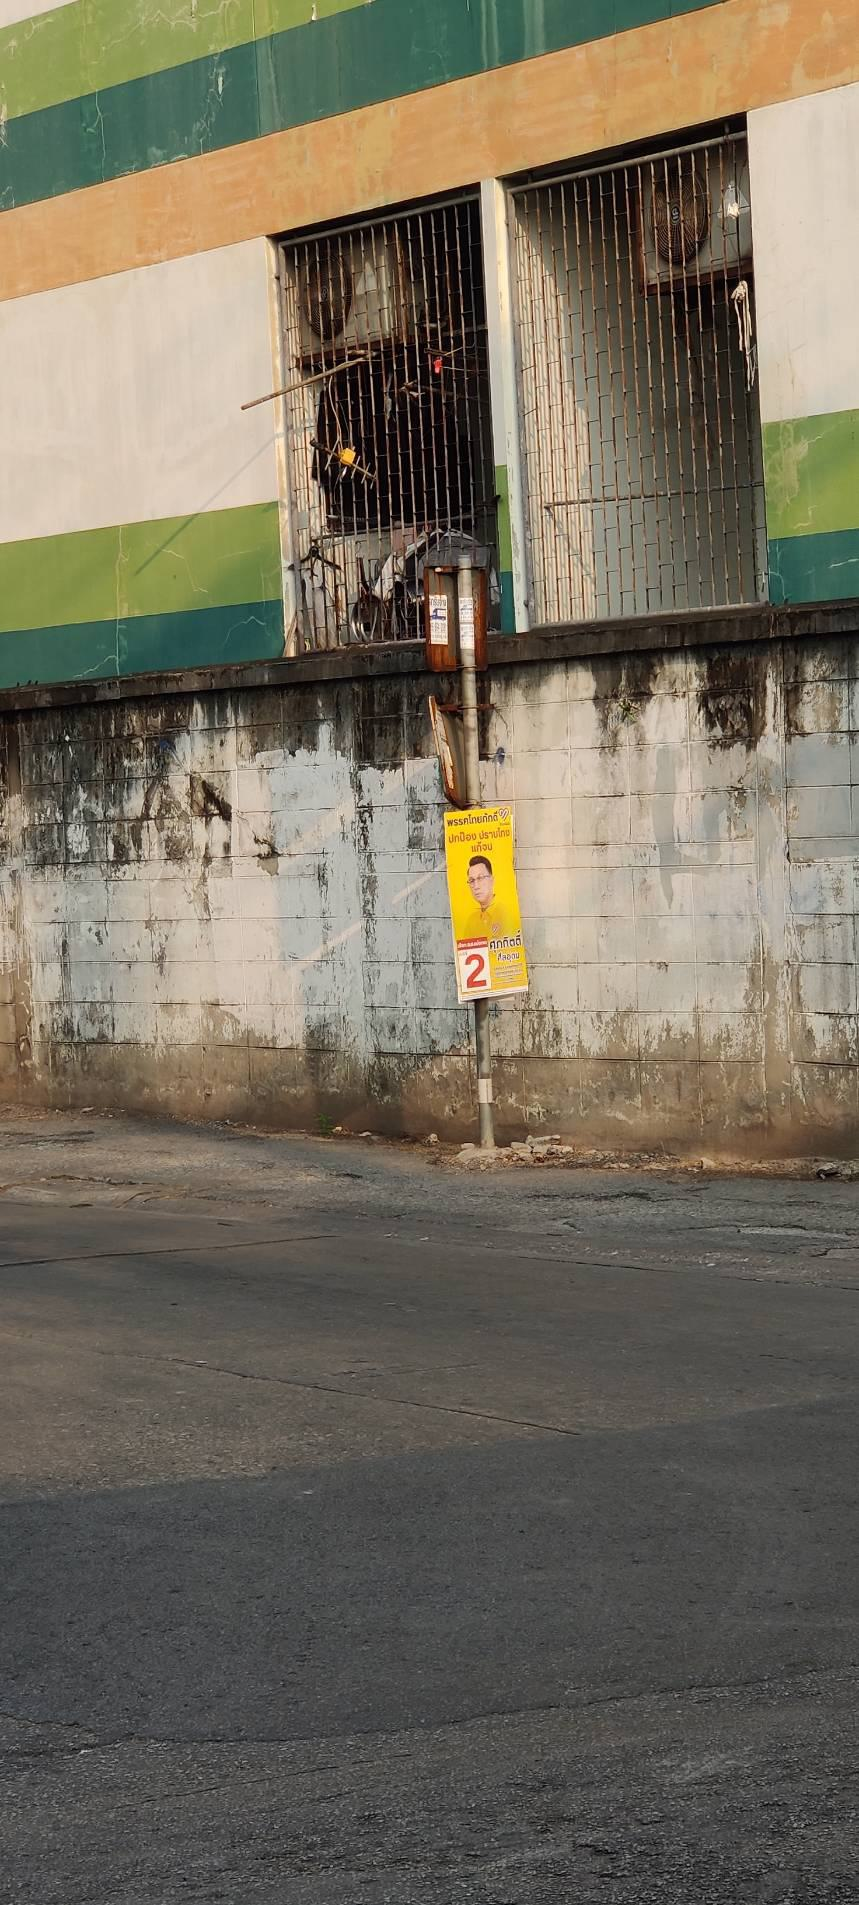Banner: (443, 805, 538, 1007)
